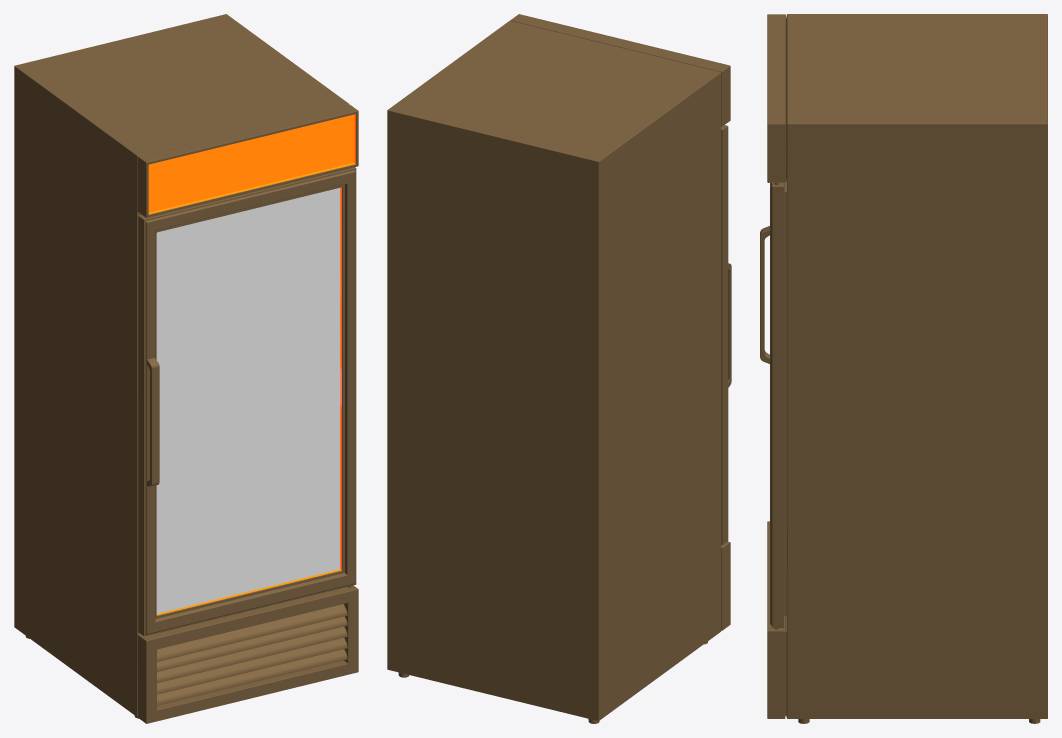
The model's file is CommercialRefrigerator-Empty.fbx.
The picture shows the model from 3 angles, left to right: view 1: azimuth 30°, elevation 25°; view 2: azimuth 150°, elevation 25°; view 3: azimuth 270°, elevation 25°; orthographic projection. The views are drawn at different scales.
Parts seen in each view (by area): view 1: FridgeCase, FridgeGlass, FridgeDoor, FridgeInterior, FridgeDoorInner; view 2: FridgeCase, FridgeDoor; view 3: FridgeCase, FridgeDoor.
Boxes of the visible parts, x1,y1,x2,y2 form: FridgeCase: (14, 14, 358, 723); FridgeGlass: (156, 188, 340, 613); FridgeDoor: (138, 167, 356, 636); FridgeInterior: (148, 114, 355, 214); FridgeDoorInner: (156, 187, 341, 615); FridgeCase: (387, 14, 730, 723); FridgeDoor: (721, 125, 731, 544); FridgeCase: (767, 14, 1047, 723); FridgeDoor: (760, 179, 786, 628).
Bounding box in the file's own units: 85.44 × 218 × 94.42.
